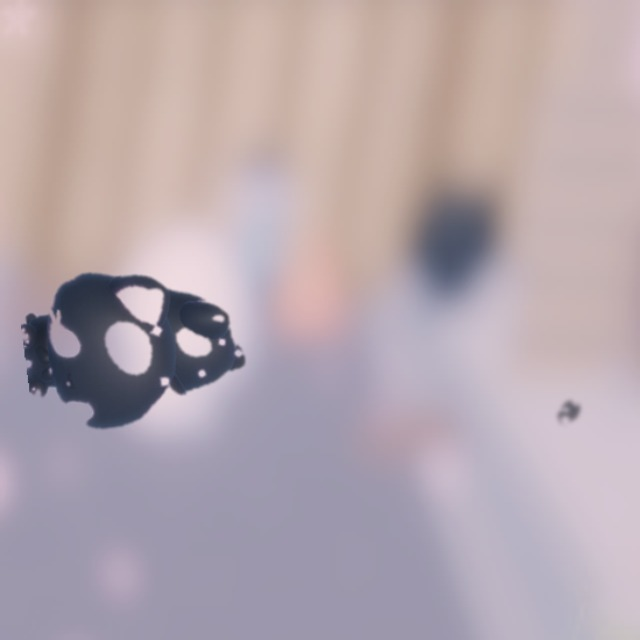urso_preto: (14, 244, 269, 455), (548, 393, 590, 434)
